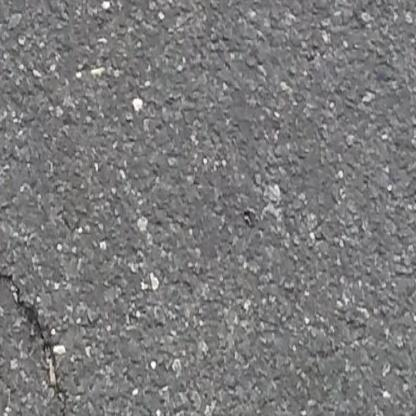Cracks: (0, 237, 71, 416)
